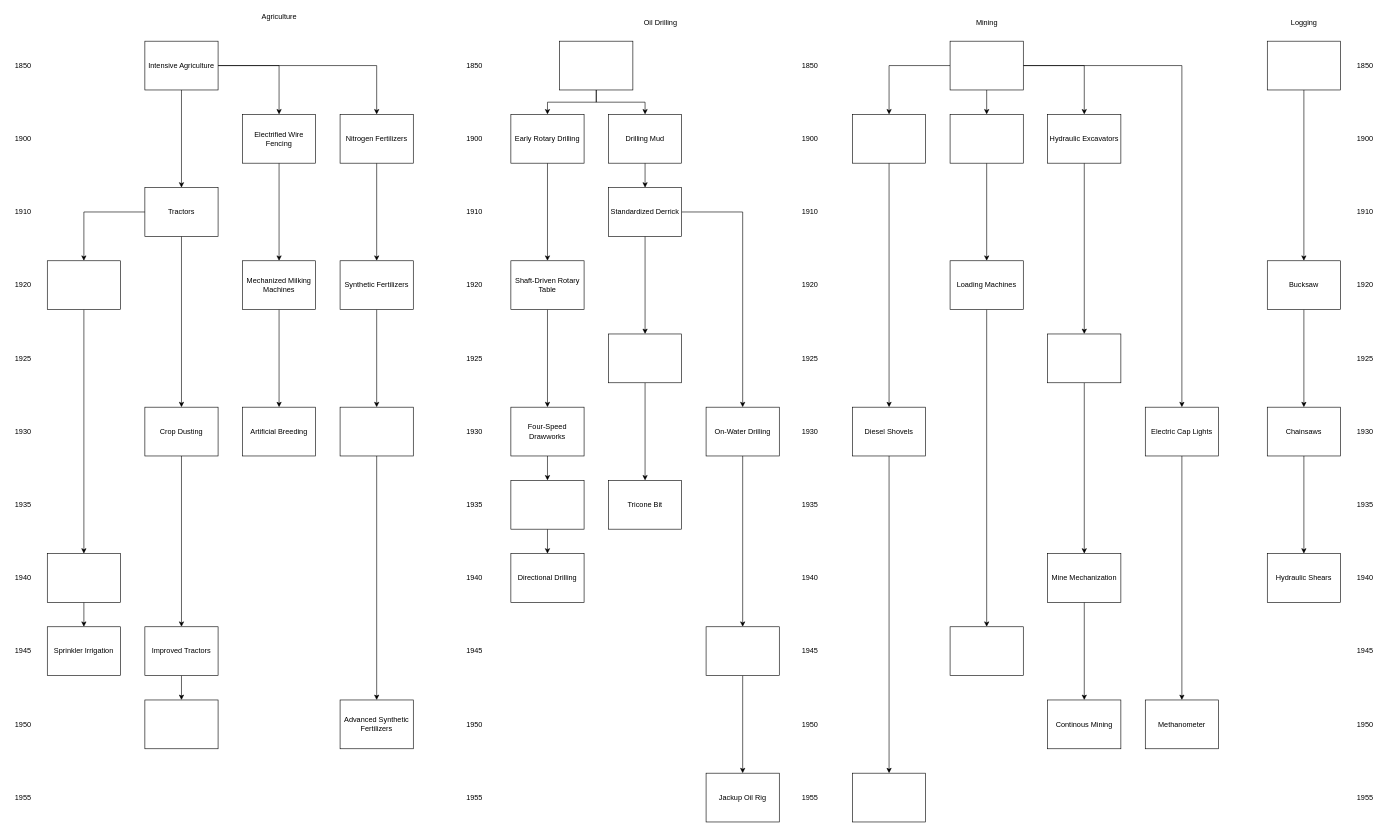
Image size: 1387x833. Some labels were removed from this diagram. Each missing label, with the centre of its shape:
Agricultural Unit Machinery: the point at 181,724
Agronomy: the point at 83,285
Bucket-Wheel Excavators: the point at 1084,358
Cable-Tool Drilling: the point at 596,65
Coal-Cutting Machines: the point at 986,138
Hydraulic Ram-Type Blowout Preventer: the point at 645,358
Intensive Farming Methods: the point at 83,577
Longwall Mining: the point at 986,651
Nitrophosphate Process: the point at 376,431
Offshore Oil Wells: the point at 742,651
Power Shovels: the point at 889,797
Steam Shovels: the point at 889,138
Steam-Powered Sawmills: the point at 1303,65
Steel Picks and Shovels: the point at 986,65
Unitized Drawworks: the point at 547,504
